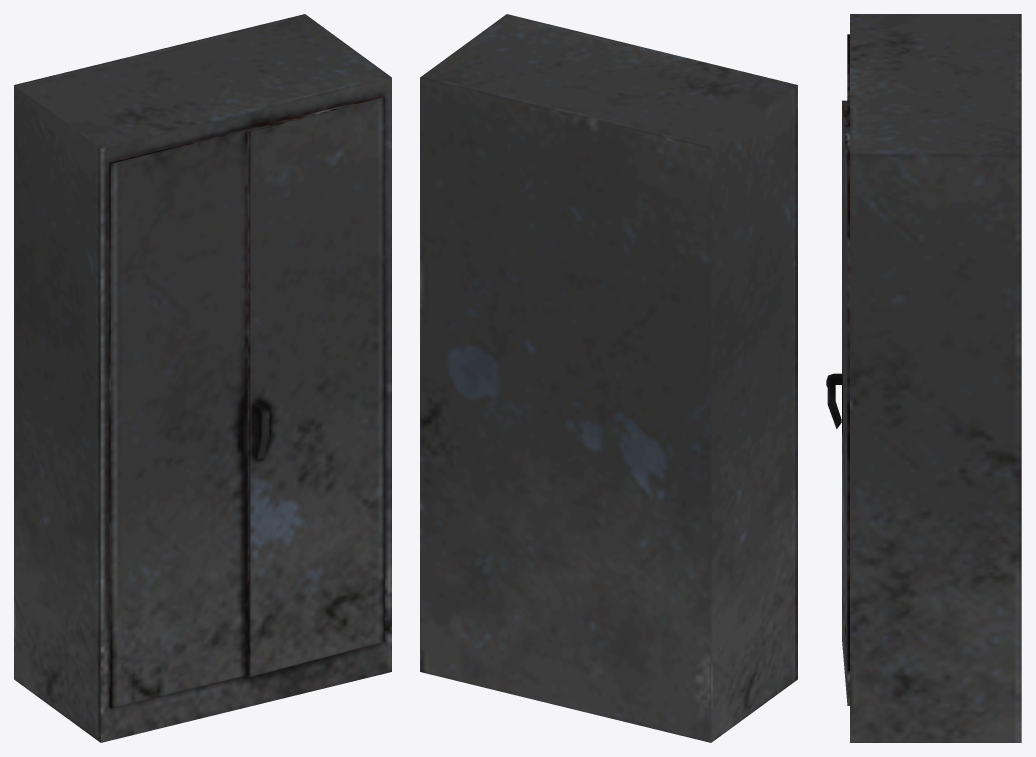
The model's file is cabinet.glb.
3 renders of one model, left to right at view 1: azimuth 30°, elevation 25°; view 2: azimuth 150°, elevation 25°; view 3: azimuth 270°, elevation 25°, orthographic.
Visible parts, largest first — view 1: Medical Cabinet_01__0, Handle; view 2: Medical Cabinet_01__0; view 3: Medical Cabinet_01__0, Handle.
Part boxes in pixels (x1,y1,x2,y2): Medical Cabinet_01__0: (14, 14, 391, 742); Handle: (254, 403, 269, 459); Medical Cabinet_01__0: (420, 14, 797, 742); Medical Cabinet_01__0: (842, 14, 1021, 742); Handle: (826, 373, 842, 428).
Size of the model in its own units: 1.05 by 2.05 by 0.617.
Materials: 1 (1 with a texture image).
